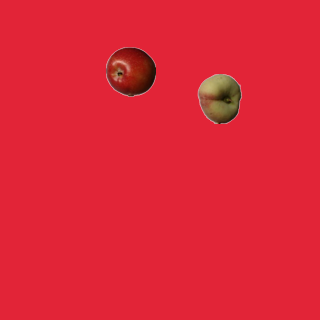Apple Braeburn: (105, 46, 155, 96)
Peach Flat: (194, 73, 244, 123)
